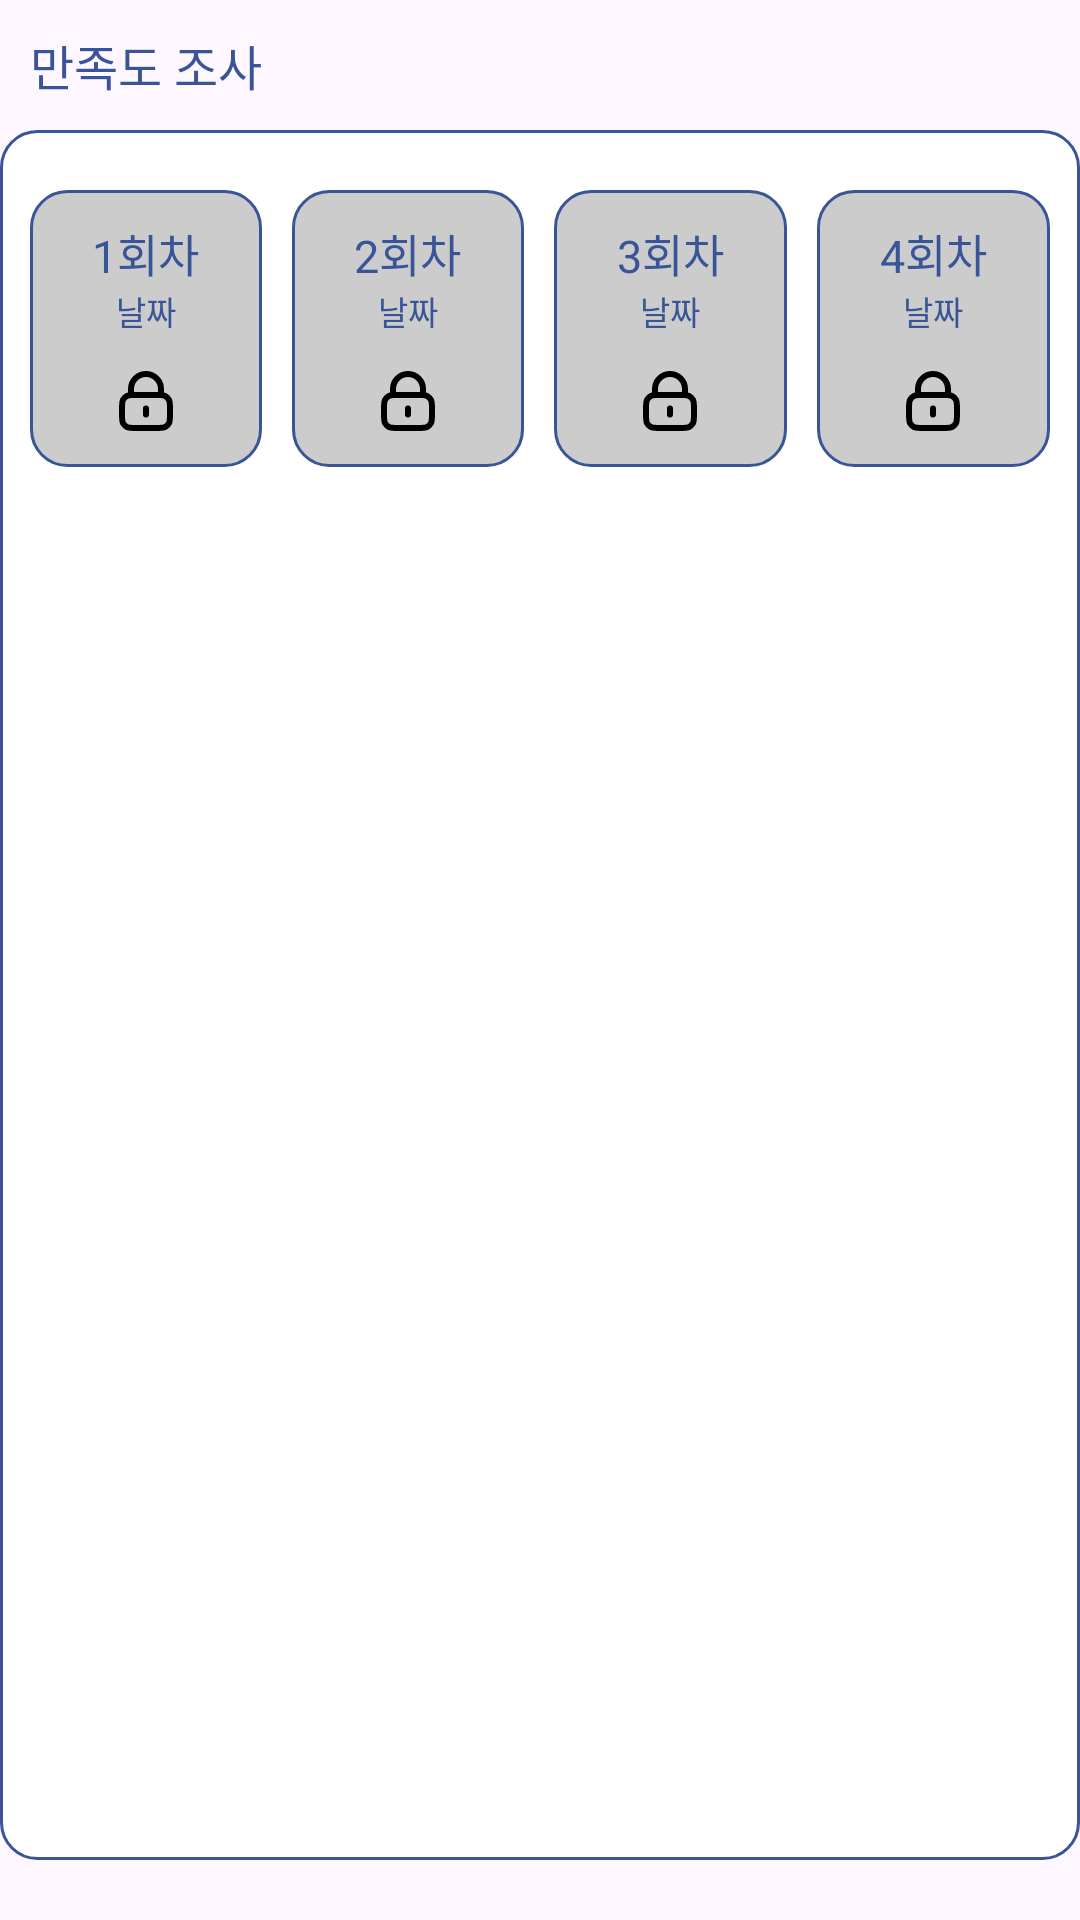

Screen size 1080 × 1920. Icon name, then its box in pixels as (x1, y1, x2, y2):
lock: (119, 371, 173, 431), (381, 371, 435, 431), (643, 371, 697, 431), (906, 371, 960, 431)
